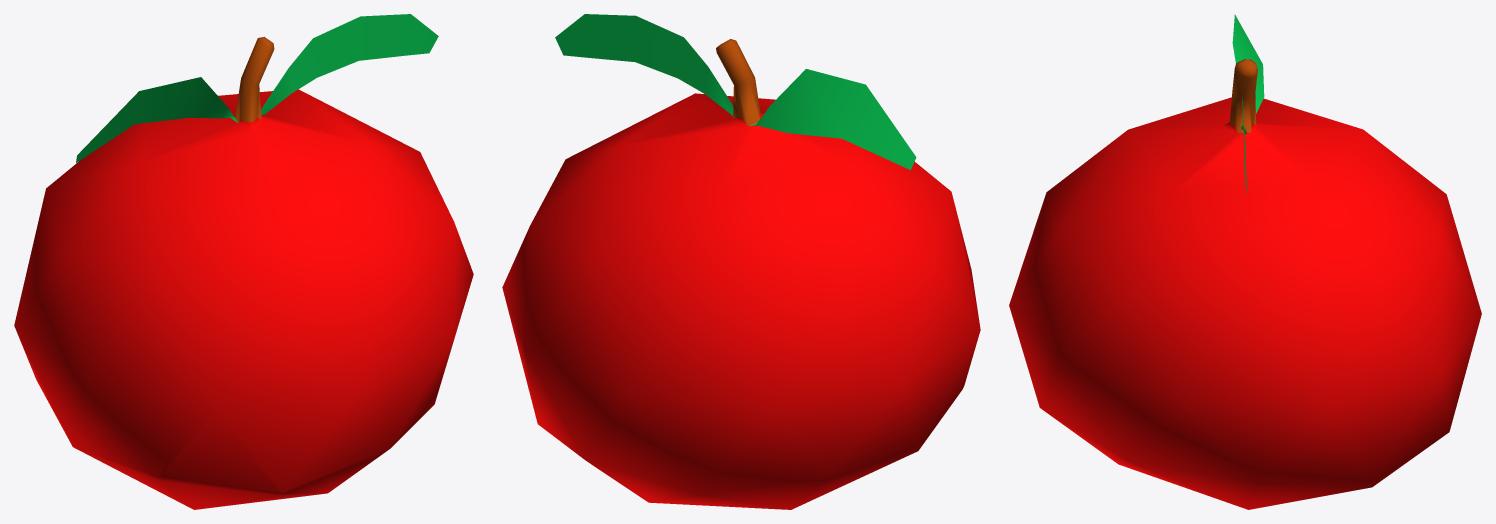
The model's file is tomato.fbx.
The picture shows the model from 3 angles, left to right: view 1: azimuth 30°, elevation 25°; view 2: azimuth 150°, elevation 25°; view 3: azimuth 270°, elevation 25°; orthographic projection.
Parts seen in each view (by area): view 1: Tomato1; view 2: Tomato1; view 3: Tomato1.
Boxes of the visible parts, x1,y1,x2,y2 form: Tomato1: (14,14,473,509); Tomato1: (502,14,980,509); Tomato1: (1009,14,1481,509).
Size of the model in its own units: 196 by 204 by 203.
